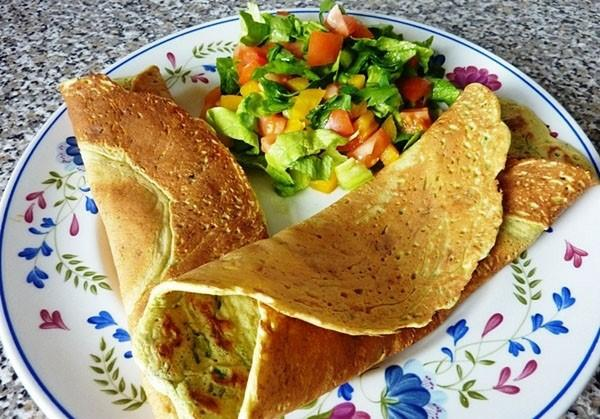Dosa: (130, 83, 600, 419), (59, 65, 268, 419)
